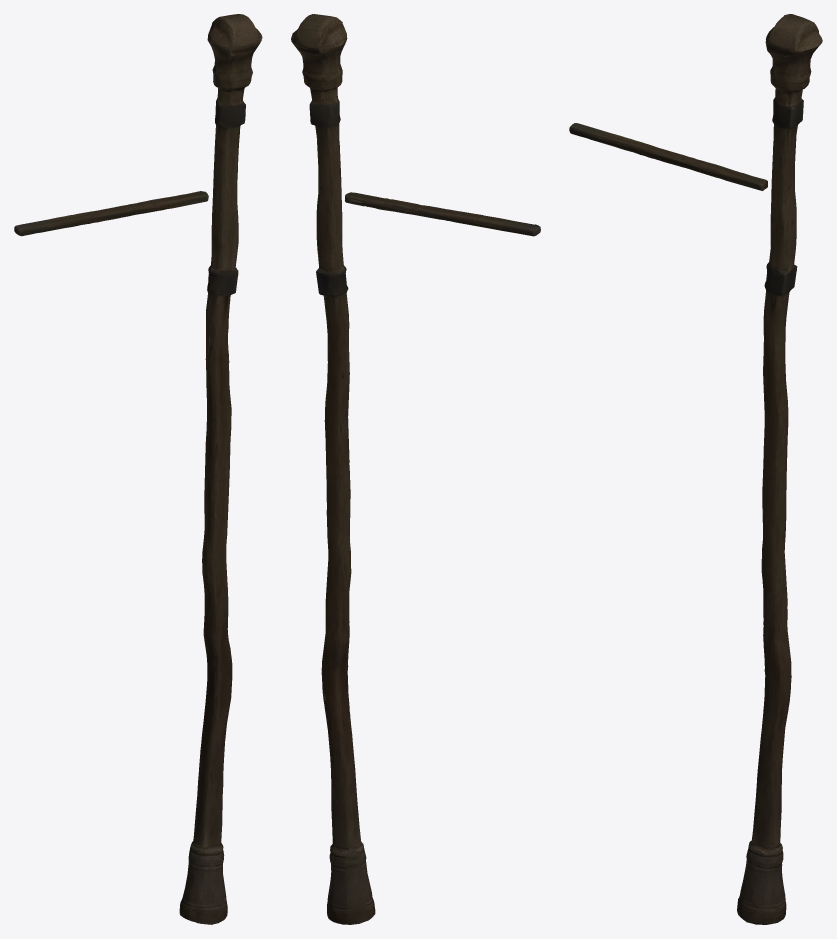
Rendered from тип-посох.glb.
The picture shows the model from 3 angles, left to right: view 1: azimuth 30°, elevation 25°; view 2: azimuth 150°, elevation 25°; view 3: azimuth 330°, elevation 25°; orthographic projection.
Parts seen in each view (by area): view 1: тип-посох; view 2: тип-посох; view 3: тип-посох.
Boxes of the visible parts, x1,y1,x2,y2 form: тип-посох: (14, 14, 262, 924); тип-посох: (291, 14, 540, 924); тип-посох: (569, 14, 822, 924).
Bounding box in the file's own units: 0.4704 × 1.65 × 0.0863.
1 material, 1 textured.
